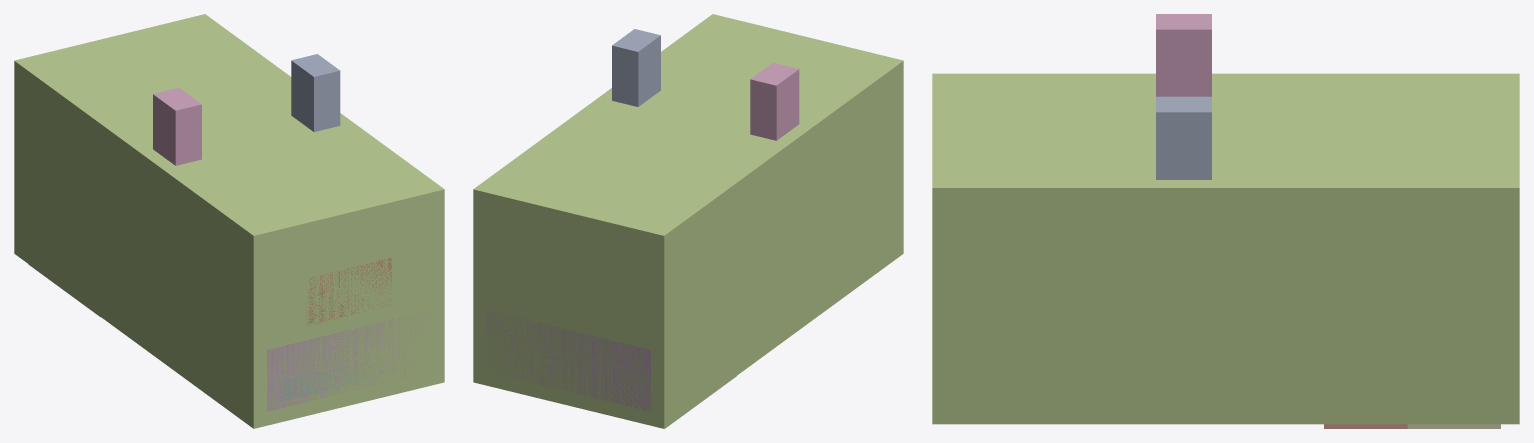
File: truck_bbox.glb
3 renders of one model, left to right at view 1: azimuth 30°, elevation 25°; view 2: azimuth 150°, elevation 25°; view 3: azimuth 270°, elevation 25°, orthographic. The views are drawn at different scales.
Visible parts, largest first — view 1: world; view 2: world; view 3: world.
Boxes of the visible parts, x1,y1,x2,y2 form: world: [14, 14, 444, 428]; world: [473, 14, 903, 428]; world: [932, 14, 1519, 428].
Size of the model in its own units: 0.4603 by 0.5873 by 1.
